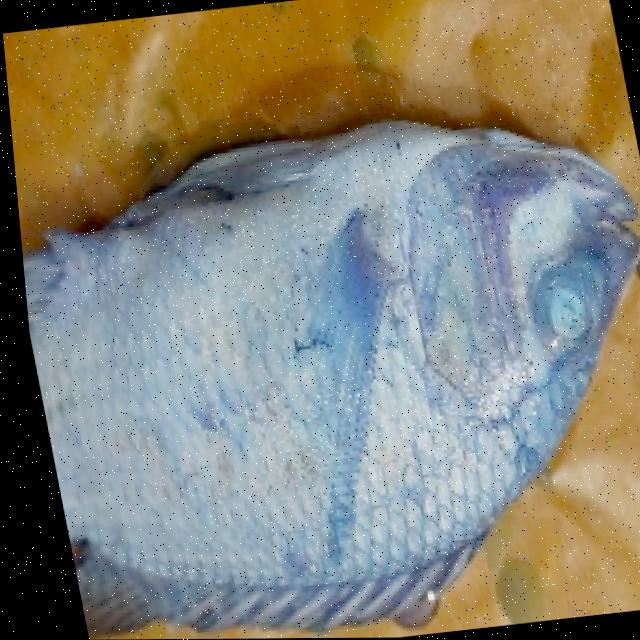Non-Fresh: (86, 104, 585, 572), (521, 258, 607, 356)
